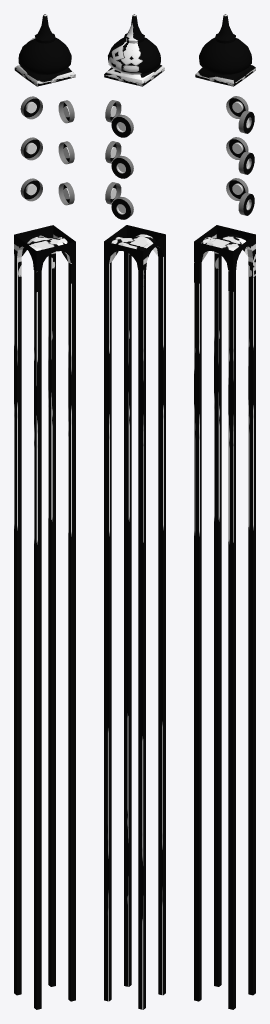
File: DraggerReveal.fbx
3 views of the same model, side by side, from view 1: azimuth 30°, elevation 25°; view 2: azimuth 150°, elevation 25°; view 3: azimuth 330°, elevation 25° (orthographic).
Parts seen in each view (by area): view 1: Arch Legs, Roof (1), Arch Top, GripNub, GripNub (2), GripNub (1), GripNub (4), GripNub (3), GripNub (5); view 2: Arch Legs, Roof (1), Arch Top, GripNub, GripNub (1), GripNub (2), GripNub (3), GripNub (4), GripNub (5); view 3: Arch Legs, Roof (1), Arch Top, GripNub (1), GripNub (2), GripNub, GripNub (3), GripNub (4), GripNub (5).
Part boxes in pixels (left/top/right/bottom): Arch Legs: left=14, top=254, right=75, bottom=1009; Roof (1): left=14, top=14, right=75, bottom=86; Arch Top: left=14, top=225, right=75, bottom=291; GripNub: left=20, top=137, right=42, bottom=160; GripNub (2): left=20, top=178, right=42, bottom=201; GripNub (1): left=20, top=96, right=42, bottom=119; GripNub (4): left=58, top=100, right=74, bottom=123; GripNub (3): left=58, top=141, right=74, bottom=164; GripNub (5): left=58, top=182, right=74, bottom=205; Arch Legs: left=104, top=251, right=165, bottom=1009; Roof (1): left=104, top=14, right=164, bottom=86; Arch Top: left=104, top=225, right=165, bottom=278; GripNub: left=111, top=155, right=133, bottom=178; GripNub (1): left=111, top=114, right=133, bottom=137; GripNub (2): left=111, top=197, right=133, bottom=219; GripNub (3): left=105, top=141, right=121, bottom=163; GripNub (4): left=105, top=100, right=121, bottom=122; GripNub (5): left=105, top=182, right=121, bottom=204; Arch Legs: left=194, top=262, right=255, bottom=1009; Roof (1): left=195, top=14, right=255, bottom=86; Arch Top: left=194, top=225, right=255, bottom=291; GripNub (1): left=226, top=96, right=248, bottom=118; GripNub (2): left=226, top=178, right=248, bottom=200; GripNub: left=226, top=137, right=248, bottom=159; GripNub (3): left=238, top=151, right=254, bottom=174; GripNub (4): left=238, top=110, right=254, bottom=133; GripNub (5): left=238, top=192, right=254, bottom=215.
Bounding box in the file's own units: 1.2 × 23.95 × 1.21.
